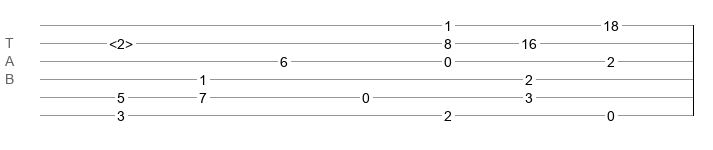0: (362, 90, 370, 100), (444, 54, 452, 64), (607, 108, 615, 118)
1: (199, 72, 207, 82), (444, 18, 452, 28)
16: (521, 36, 537, 46)
18: (603, 18, 619, 28)
2: (444, 108, 452, 118), (525, 72, 533, 82), (607, 54, 615, 64)
3: (117, 108, 125, 118), (525, 90, 533, 100)
5: (117, 90, 125, 100)
6: (280, 54, 288, 64)
7: (199, 90, 207, 100)
8: (444, 36, 452, 46)
harmonic: (109, 36, 133, 46)
